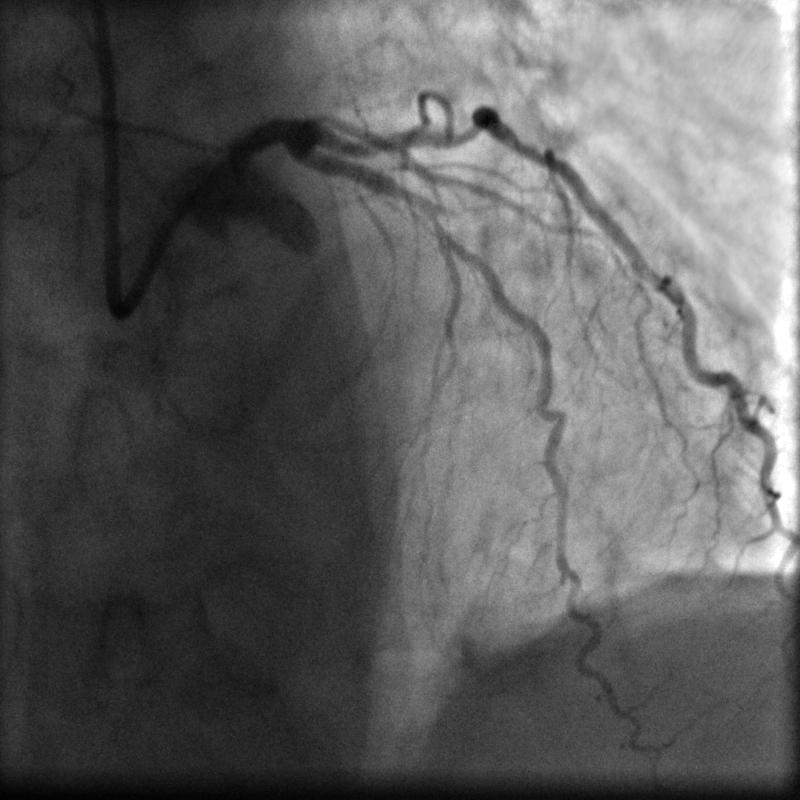Stenosis: (397, 175, 461, 247)
